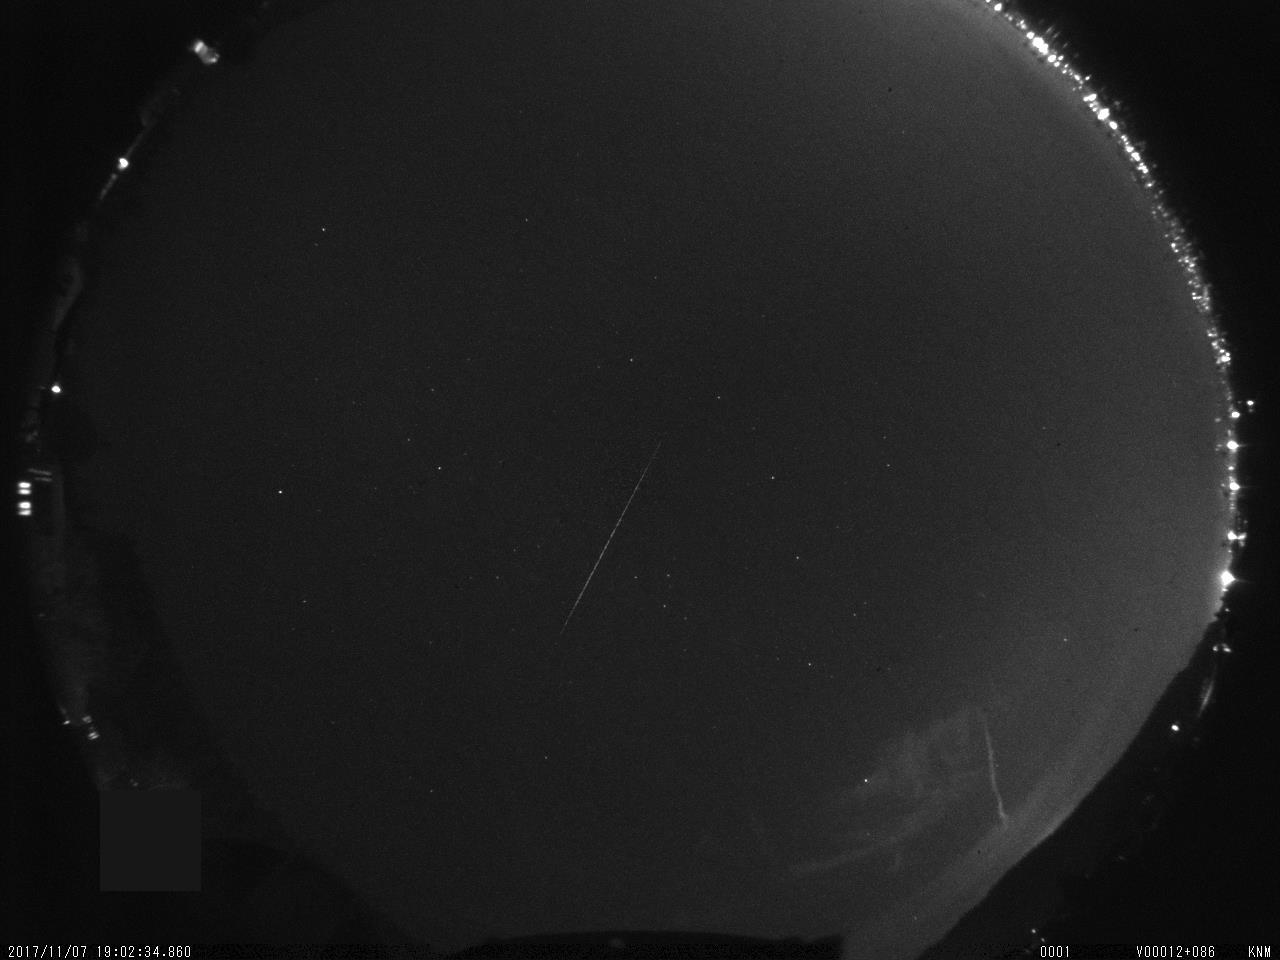meteor: (545, 444, 666, 642)
